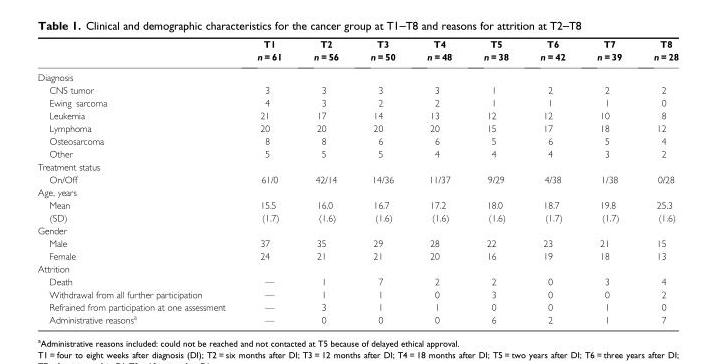table: (37, 37, 677, 325)
table column: (37, 37, 240, 325), (240, 37, 297, 325), (353, 37, 410, 325), (410, 37, 467, 325), (523, 37, 580, 325), (580, 37, 637, 325), (297, 37, 353, 325), (467, 37, 523, 325), (637, 37, 677, 325)
table column header: (37, 37, 677, 66)
table projected row header: (37, 66, 677, 83), (37, 159, 677, 172), (37, 185, 677, 198), (37, 223, 677, 236), (37, 262, 677, 274)
table row: (37, 37, 677, 66), (37, 66, 677, 83), (37, 83, 677, 96), (37, 108, 677, 121), (37, 121, 677, 134), (37, 134, 677, 147), (37, 159, 677, 172), (37, 172, 677, 185), (37, 185, 677, 198), (37, 210, 677, 223), (37, 223, 677, 236), (37, 236, 677, 249), (37, 249, 677, 262), (37, 274, 677, 287), (37, 287, 677, 300), (37, 312, 677, 325), (37, 96, 677, 108), (37, 147, 677, 159), (37, 198, 677, 210), (37, 262, 677, 274), (37, 300, 677, 312)
